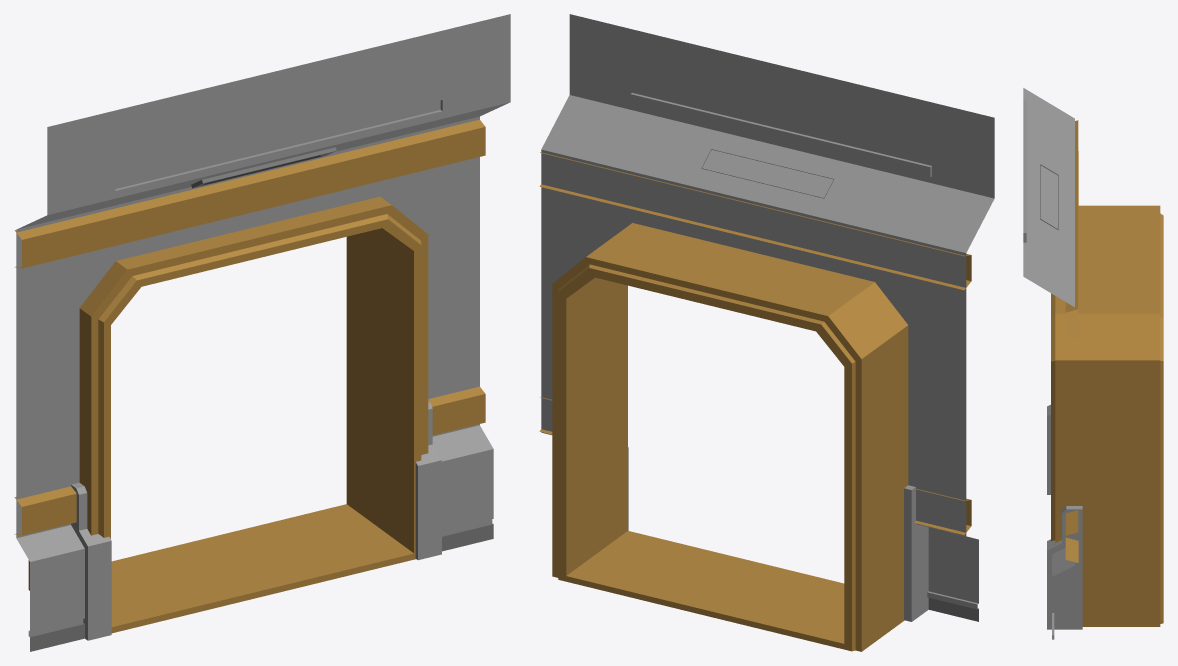
Rendered from DoorDouble_Wall_SideA.glb.
The picture shows the model from 3 angles, left to right: view 1: azimuth 30°, elevation 25°; view 2: azimuth 150°, elevation 25°; view 3: azimuth 270°, elevation 25°; orthographic projection. The views are drawn at different scales.
Visible parts, largest first — view 1: DoorDouble_Wall_SideA; view 2: DoorDouble_Wall_SideA; view 3: DoorDouble_Wall_SideA.
Part boxes in pixels (<box>): DoorDouble_Wall_SideA: <box>14,14,510,651</box>; DoorDouble_Wall_SideA: <box>539,14,994,651</box>; DoorDouble_Wall_SideA: <box>1023,88,1163,639</box>.
Size of the model in its own units: 1.36 by 1.51 by 0.4263.
